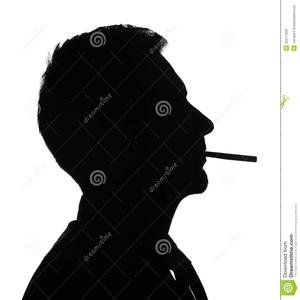cigarette: (204, 148, 260, 164)
